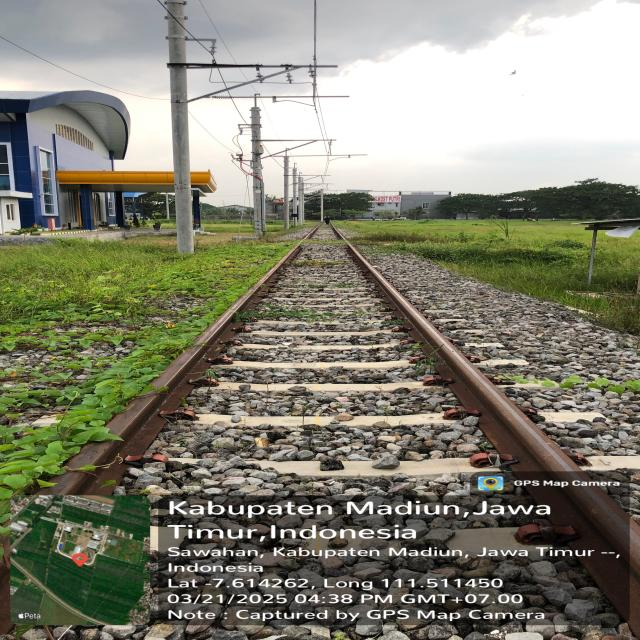rail-detection: (347, 245, 640, 637), (39, 245, 299, 495)
